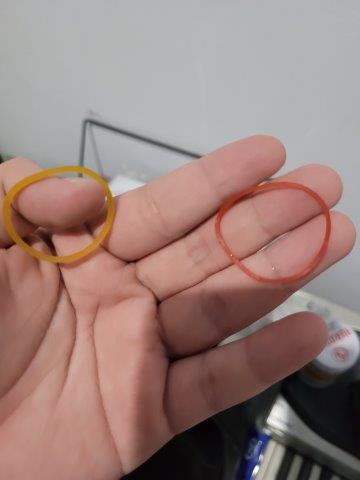karet: (217, 181, 331, 282), (4, 166, 116, 264)
